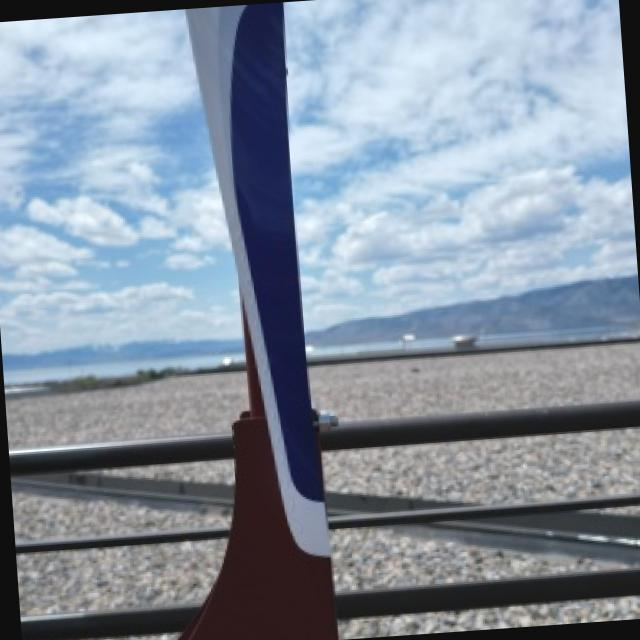healthy: (179, 2, 334, 640)
